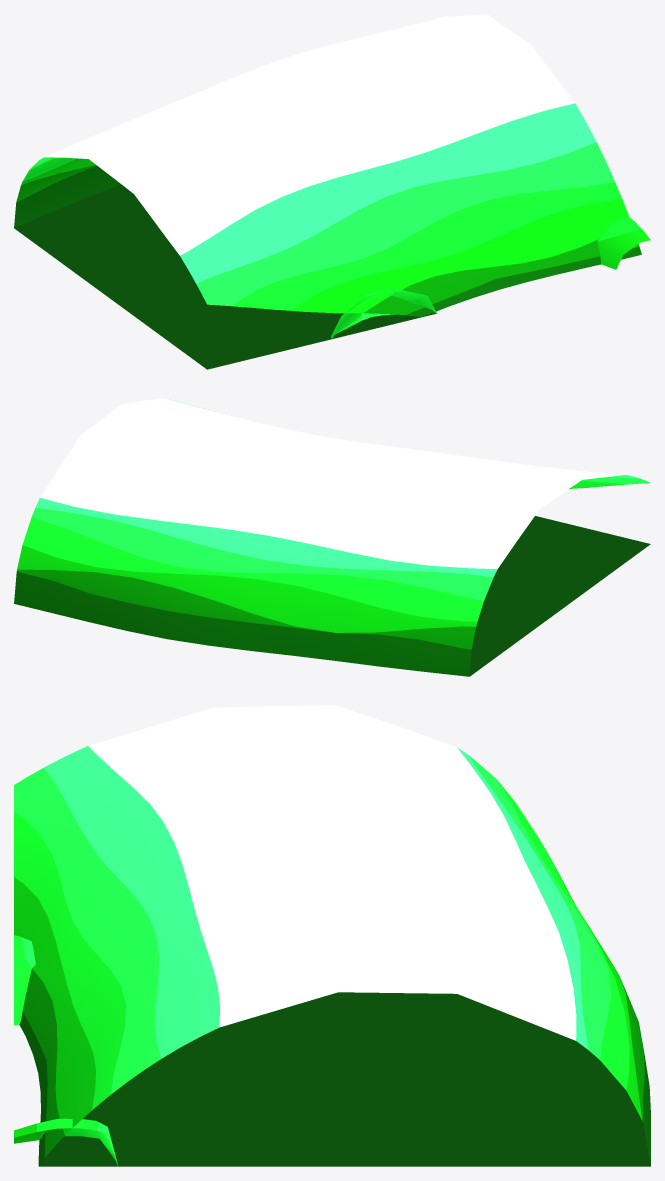
The model's file is shot_charge_b268.glb.
3 renders of one model, top to bottom at view 1: azimuth 30°, elevation 25°; view 2: azimuth 150°, elevation 25°; view 3: azimuth 270°, elevation 25°, orthographic. The views are drawn at different scales.
Parts seen in each view (by area): view 1: charge_great_wave_shot_charge_b268, charge_great_drip1_shot_charge_b268, charge_great_drip0_shot_charge_b268; view 2: charge_great_wave_shot_charge_b268; view 3: charge_great_wave_shot_charge_b268, charge_great_drip0_shot_charge_b268, charge_great_drip1_shot_charge_b268.
Boxes of the visible parts, <box> form: charge_great_wave_shot_charge_b268: <box>14,14,641,369</box>; charge_great_drip1_shot_charge_b268: <box>331,288,436,338</box>; charge_great_drip0_shot_charge_b268: <box>597,217,650,269</box>; charge_great_wave_shot_charge_b268: <box>14,398,650,676</box>; charge_great_wave_shot_charge_b268: <box>14,705,650,1166</box>; charge_great_drip0_shot_charge_b268: <box>14,1118,118,1166</box>; charge_great_drip1_shot_charge_b268: <box>14,935,35,1025</box>.
Bounding box in the file's own units: 12 × 3.33 × 11.
